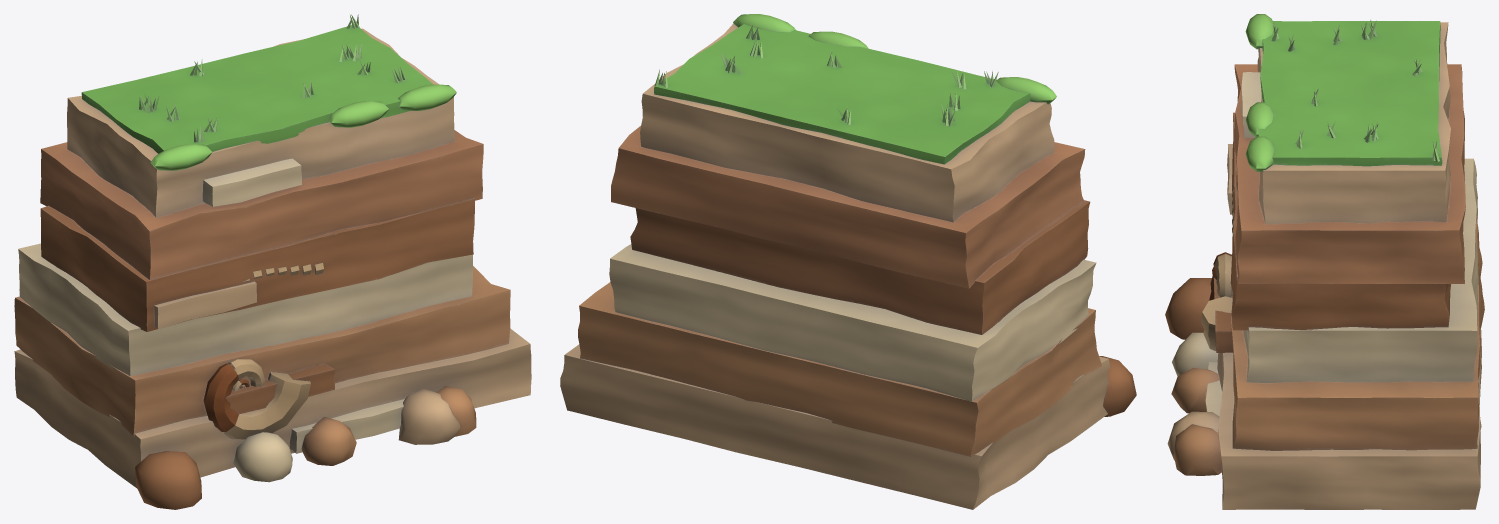
The model's file is cliff_meso.glb.
3 views of the same model, side by side, from view 1: azimuth 30°, elevation 25°; view 2: azimuth 150°, elevation 25°; view 3: azimuth 270°, elevation 25° (orthographic). The views are drawn at different scales.
Parts seen in each view (by area): view 1: SM_CliffMeso; view 2: SM_CliffMeso; view 3: SM_CliffMeso.
Part boxes in pixels (<box>): SM_CliffMeso: <box>14,14,531,509</box>; SM_CliffMeso: <box>560,14,1136,509</box>; SM_CliffMeso: <box>1165,14,1484,509</box>.
Size of what is drawn, in the model's own units: 9.37 by 7.25 by 6.23.
Materials: 1 (1 with a texture image).
